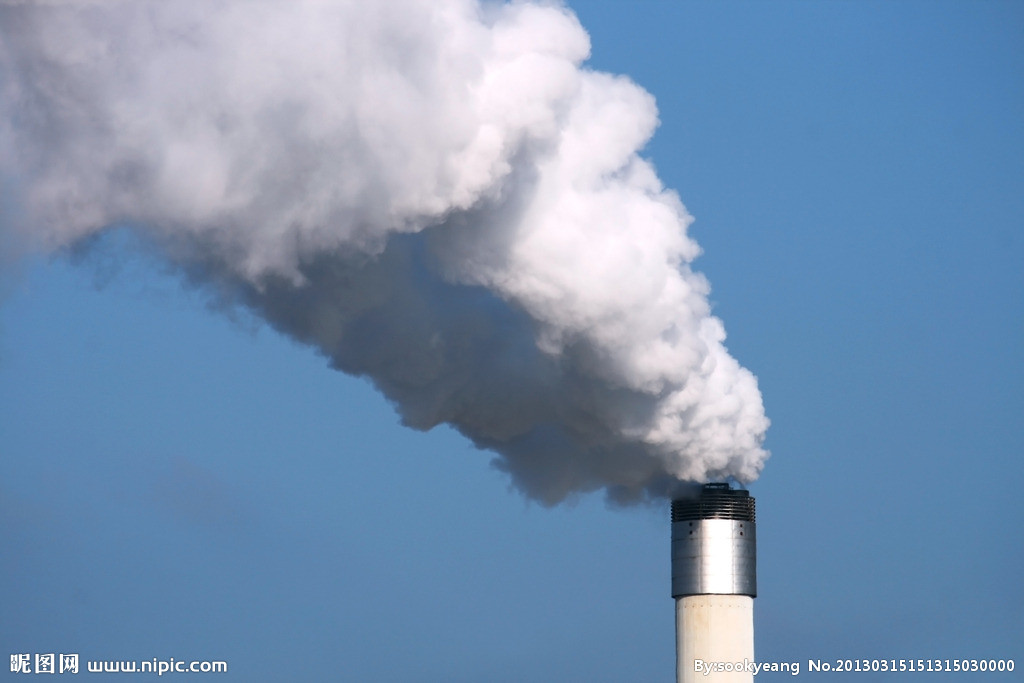dust: (178, 17, 792, 545)
